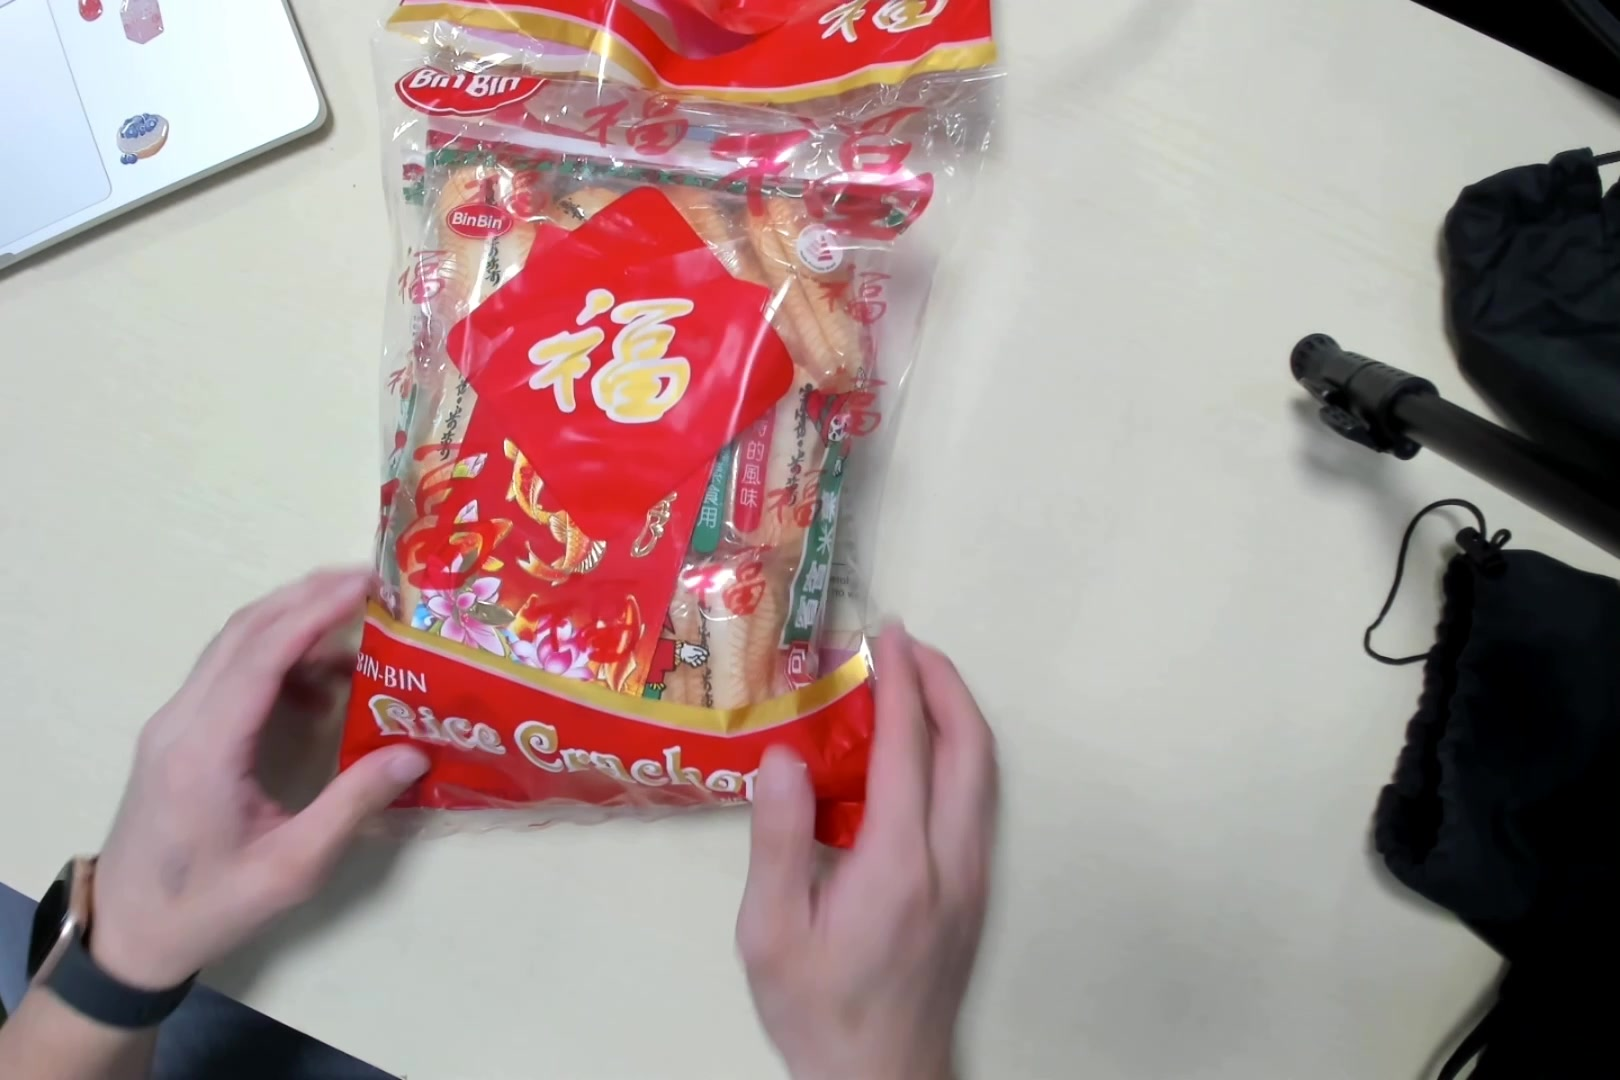PotatoChipsKeropok_300-399g_NonHalal_NonHealthy: (365, 4, 964, 818)
